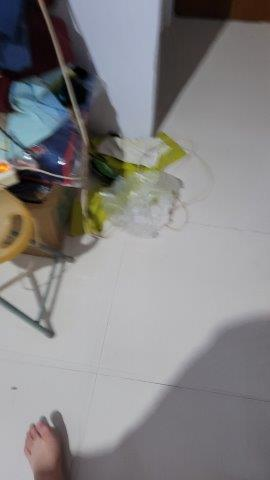plastik: (98, 170, 183, 242)
